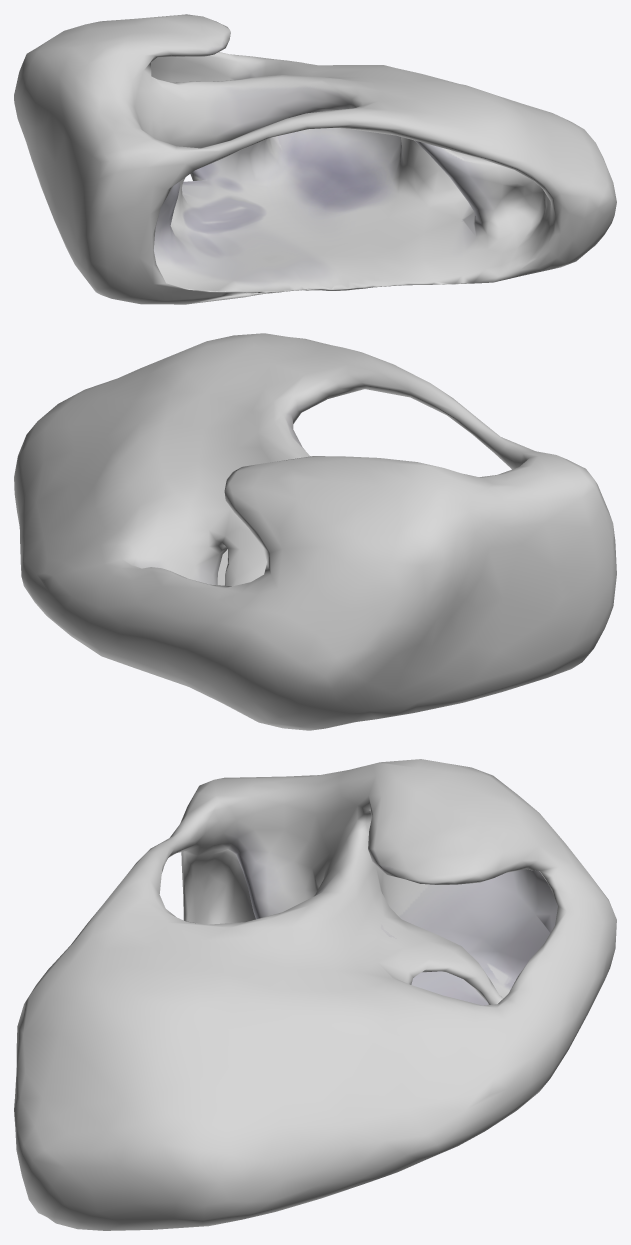
Rendered from Room001.fbx.
3 renders of one model, top to bottom at view 1: azimuth 30°, elevation 25°; view 2: azimuth 150°, elevation 25°; view 3: azimuth 270°, elevation 25°, orthographic. The views are drawn at different scales.
Parts seen in each view (by area): view 1: Room.001; view 2: Room.001; view 3: Room.001.
Part boxes in pixels (box(x1,y1,x2,y2)): Room.001: box(14, 14, 616, 304); Room.001: box(14, 333, 616, 730); Room.001: box(14, 759, 616, 1230).
Bounding box in the file's own units: 117 × 45.89 × 99.12.
1 material, 1 textured.
